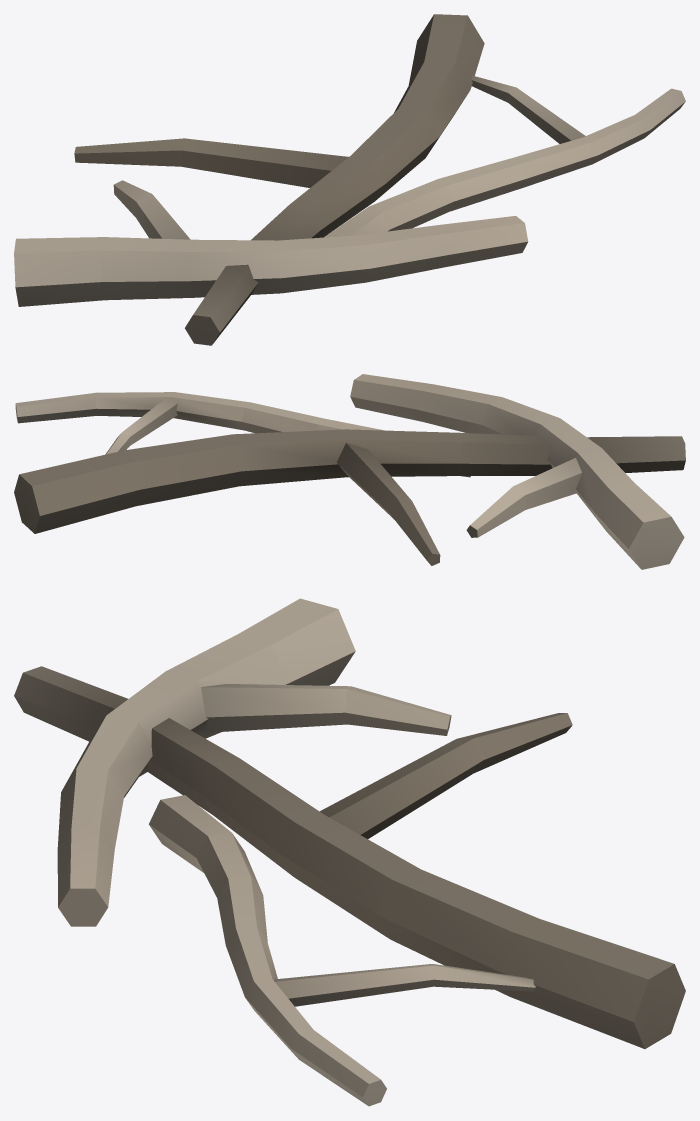
File: shore_gc_twigs_a.glb
The picture shows the model from 3 angles, top to bottom: view 1: azimuth 30°, elevation 25°; view 2: azimuth 150°, elevation 25°; view 3: azimuth 270°, elevation 25°; orthographic projection. The views are drawn at different scales.
Parts seen in each view (by area): view 1: shore_gc_twigs_a; view 2: shore_gc_twigs_a; view 3: shore_gc_twigs_a.
Part boxes in pixels (left/top/right/bottom): shore_gc_twigs_a: left=14, top=14, right=685, bottom=345; shore_gc_twigs_a: left=14, top=374, right=685, bottom=569; shore_gc_twigs_a: left=14, top=598, right=685, bottom=1106.
Bounding box in the file's own units: 2.78 × 0.24 × 1.73.
